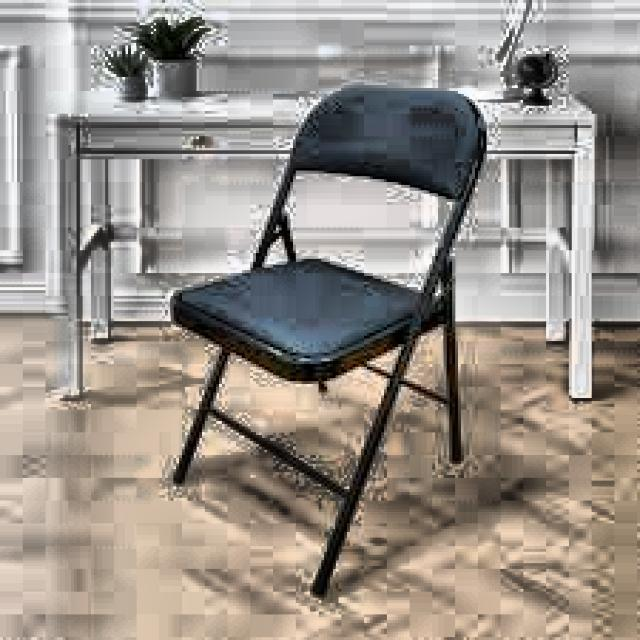cadeira: (165, 84, 493, 602)
